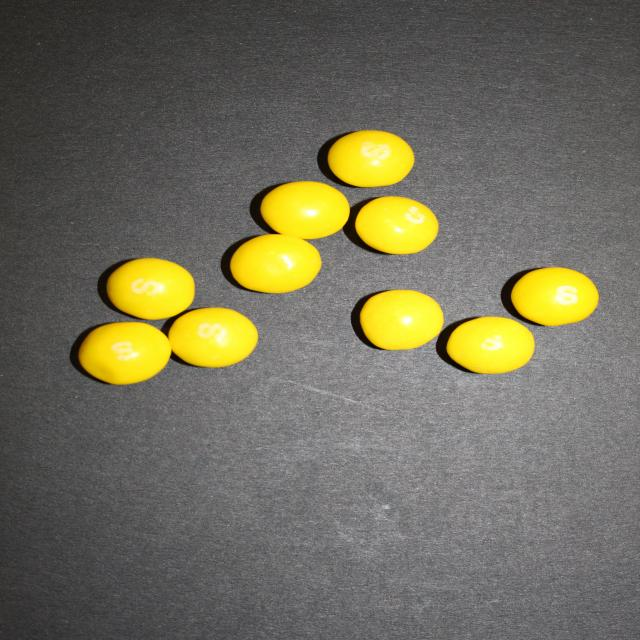smartie: (77, 322, 170, 385), (105, 258, 194, 320), (168, 307, 257, 368), (229, 234, 321, 293), (511, 267, 600, 326), (260, 181, 349, 239), (359, 290, 444, 350), (447, 317, 535, 374), (328, 130, 415, 187), (356, 196, 439, 254)
